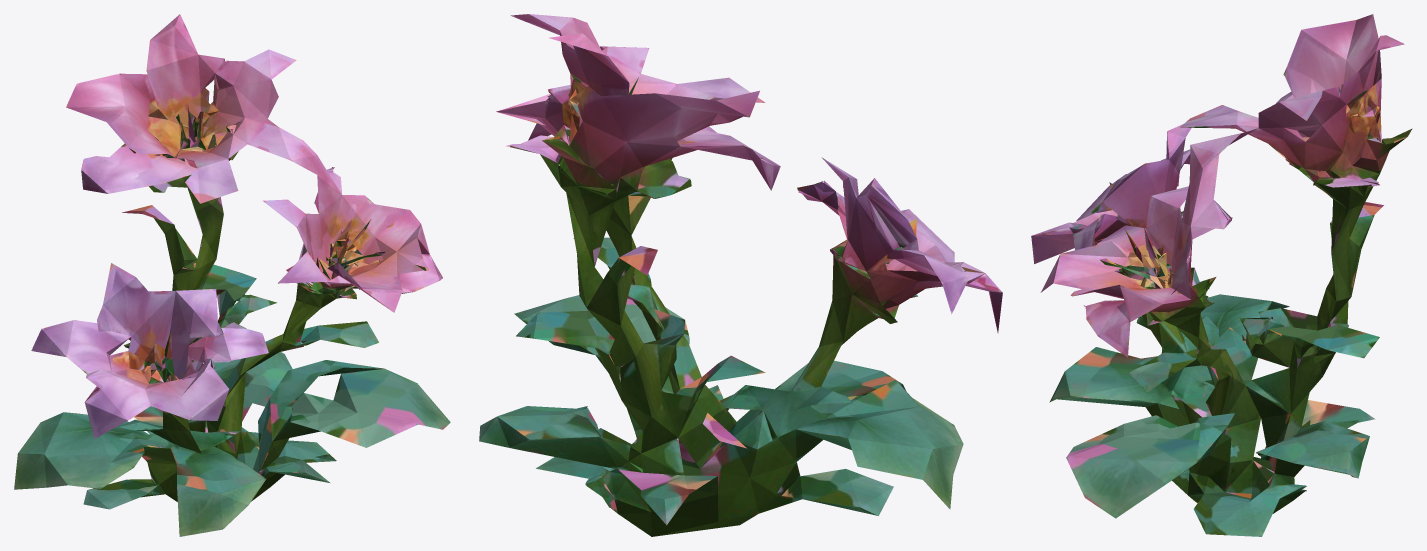
The model's file is fairy_blossom_1116.glb.
The picture shows the model from 3 angles, left to right: view 1: azimuth 30°, elevation 25°; view 2: azimuth 150°, elevation 25°; view 3: azimuth 270°, elevation 25°; orthographic projection. The views are drawn at different scales.
Parts seen in each view (by area): view 1: world; view 2: world; view 3: world.
Part boxes in pixels (left/top/right/bottom): world: left=14, top=14, right=450, bottom=536; world: left=479, top=14, right=1002, bottom=536; world: left=1031, top=14, right=1412, bottom=536.
Bounding box in the file's own units: 0.9394 × 1 × 0.717.
1 material, 1 textured.
